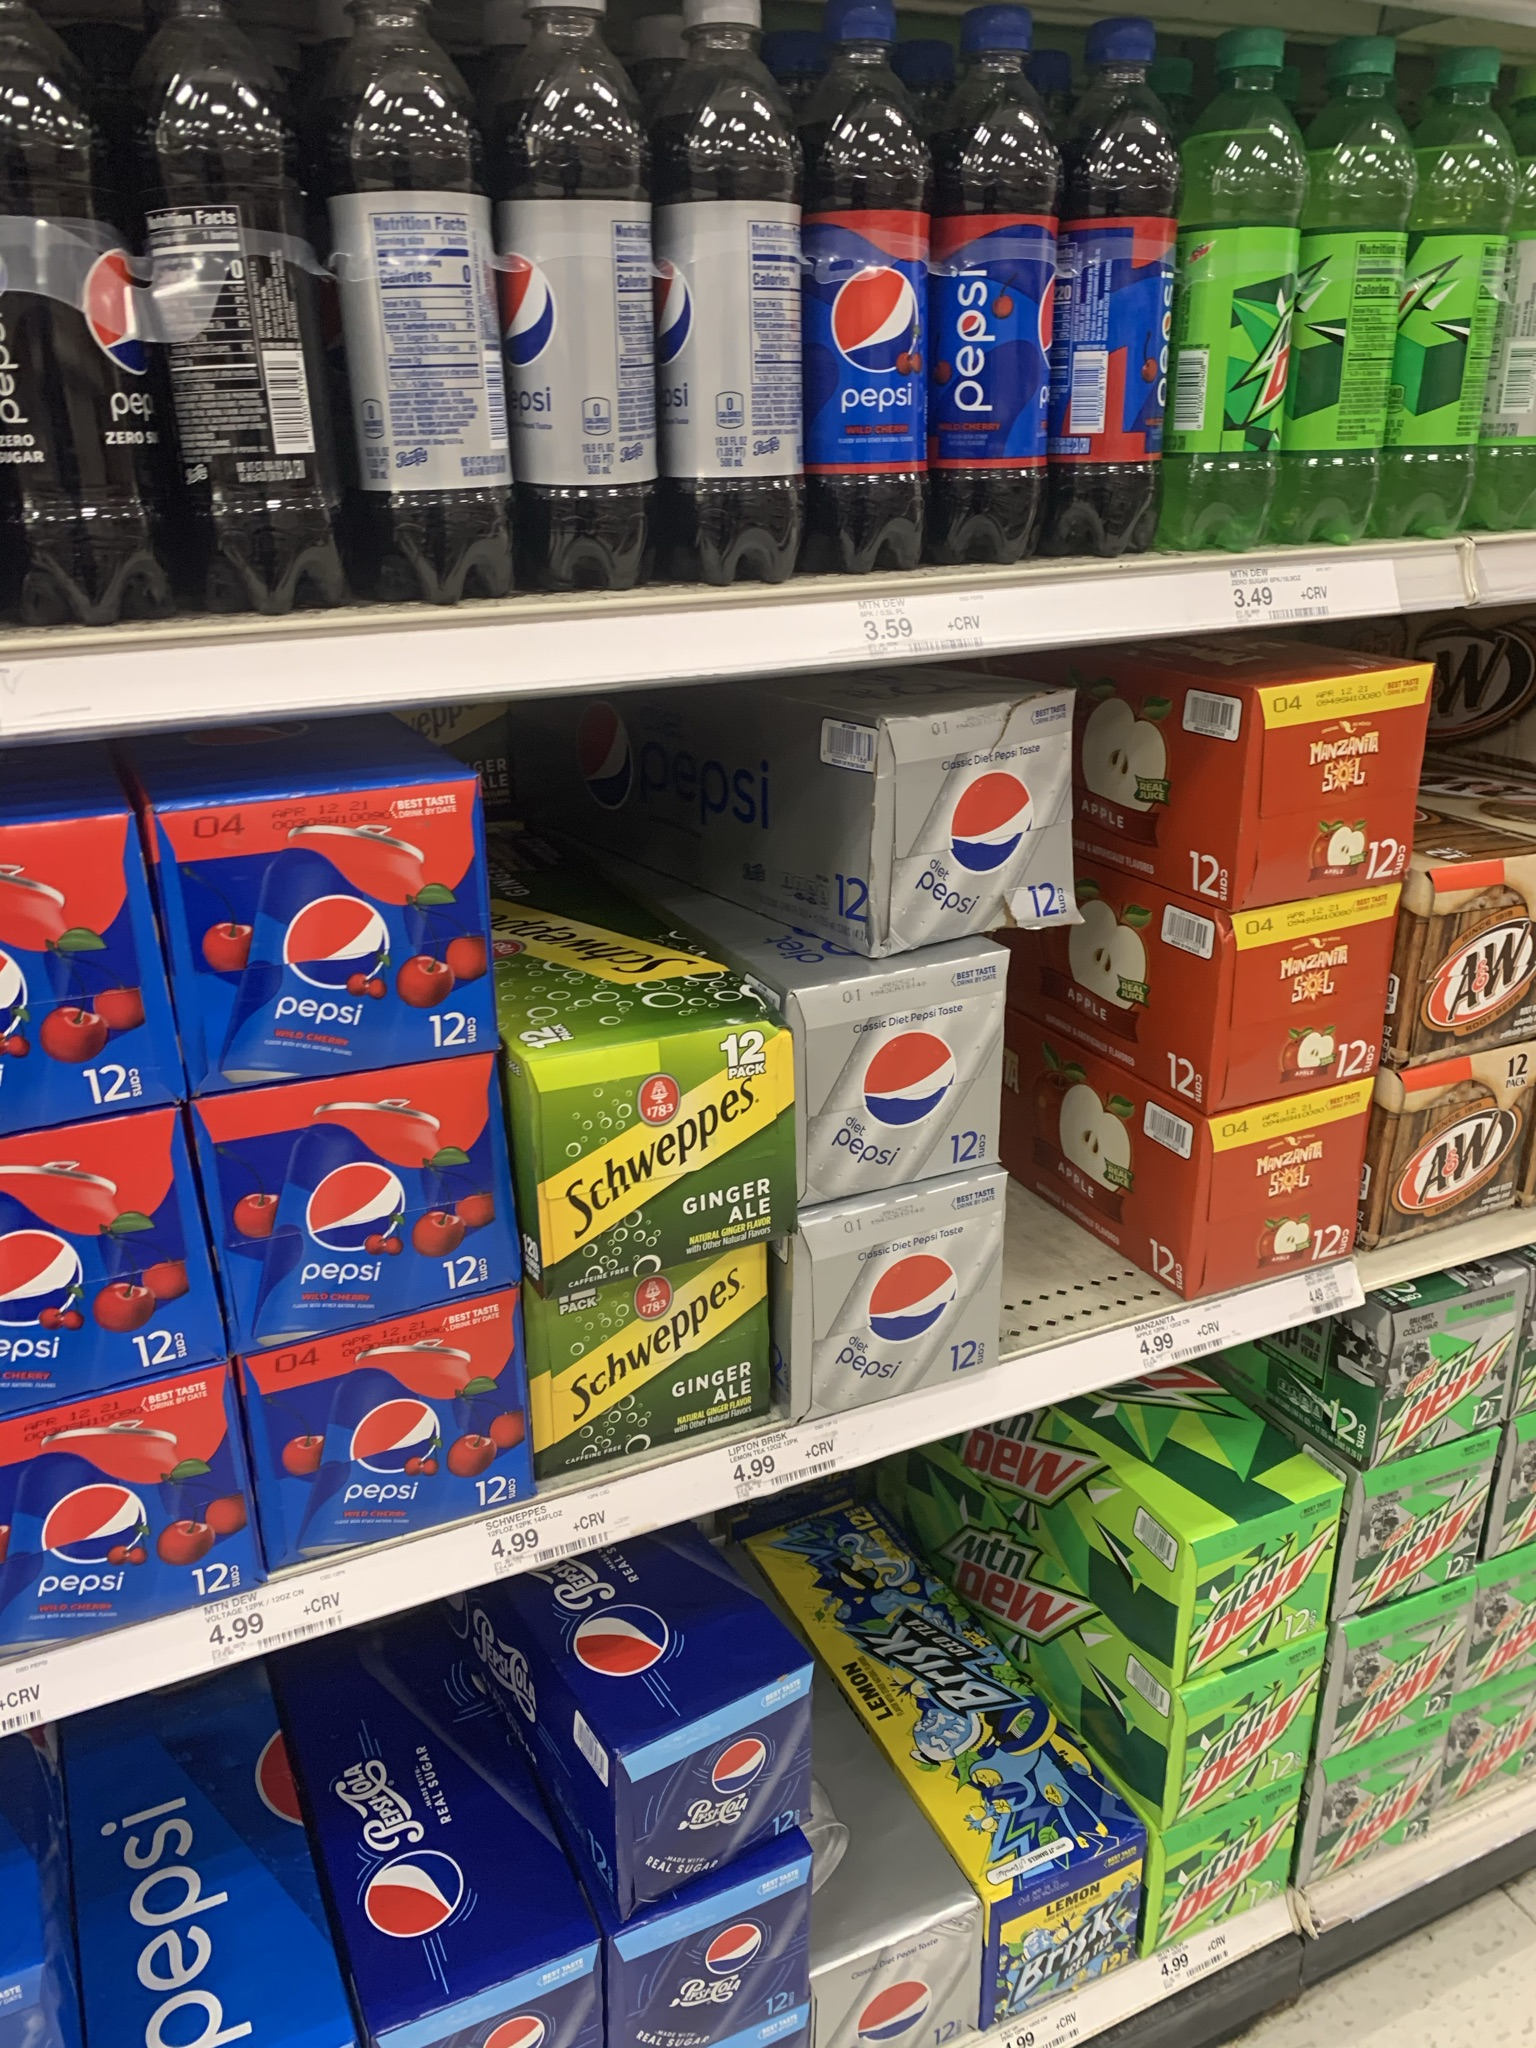mountain dew soda: (1333, 35, 1413, 535), (1213, 35, 1292, 540), (1444, 40, 1513, 534), (1192, 1555, 1326, 1656), (1392, 1343, 1502, 1450), (1183, 1706, 1302, 1787), (1367, 1480, 1476, 1561), (1342, 1630, 1452, 1705)
pep: (253, 1371, 544, 1484)
pepsi soda: (11, 21, 365, 574), (534, 26, 687, 605), (148, 826, 482, 1051), (387, 19, 515, 566), (697, 6, 807, 574), (824, 19, 929, 574), (958, 10, 1054, 539), (210, 1121, 511, 1285), (1075, 21, 1171, 531), (871, 719, 1070, 926), (10, 1435, 260, 1587), (807, 1001, 994, 1169), (802, 1216, 994, 1356), (616, 1714, 792, 1824)
